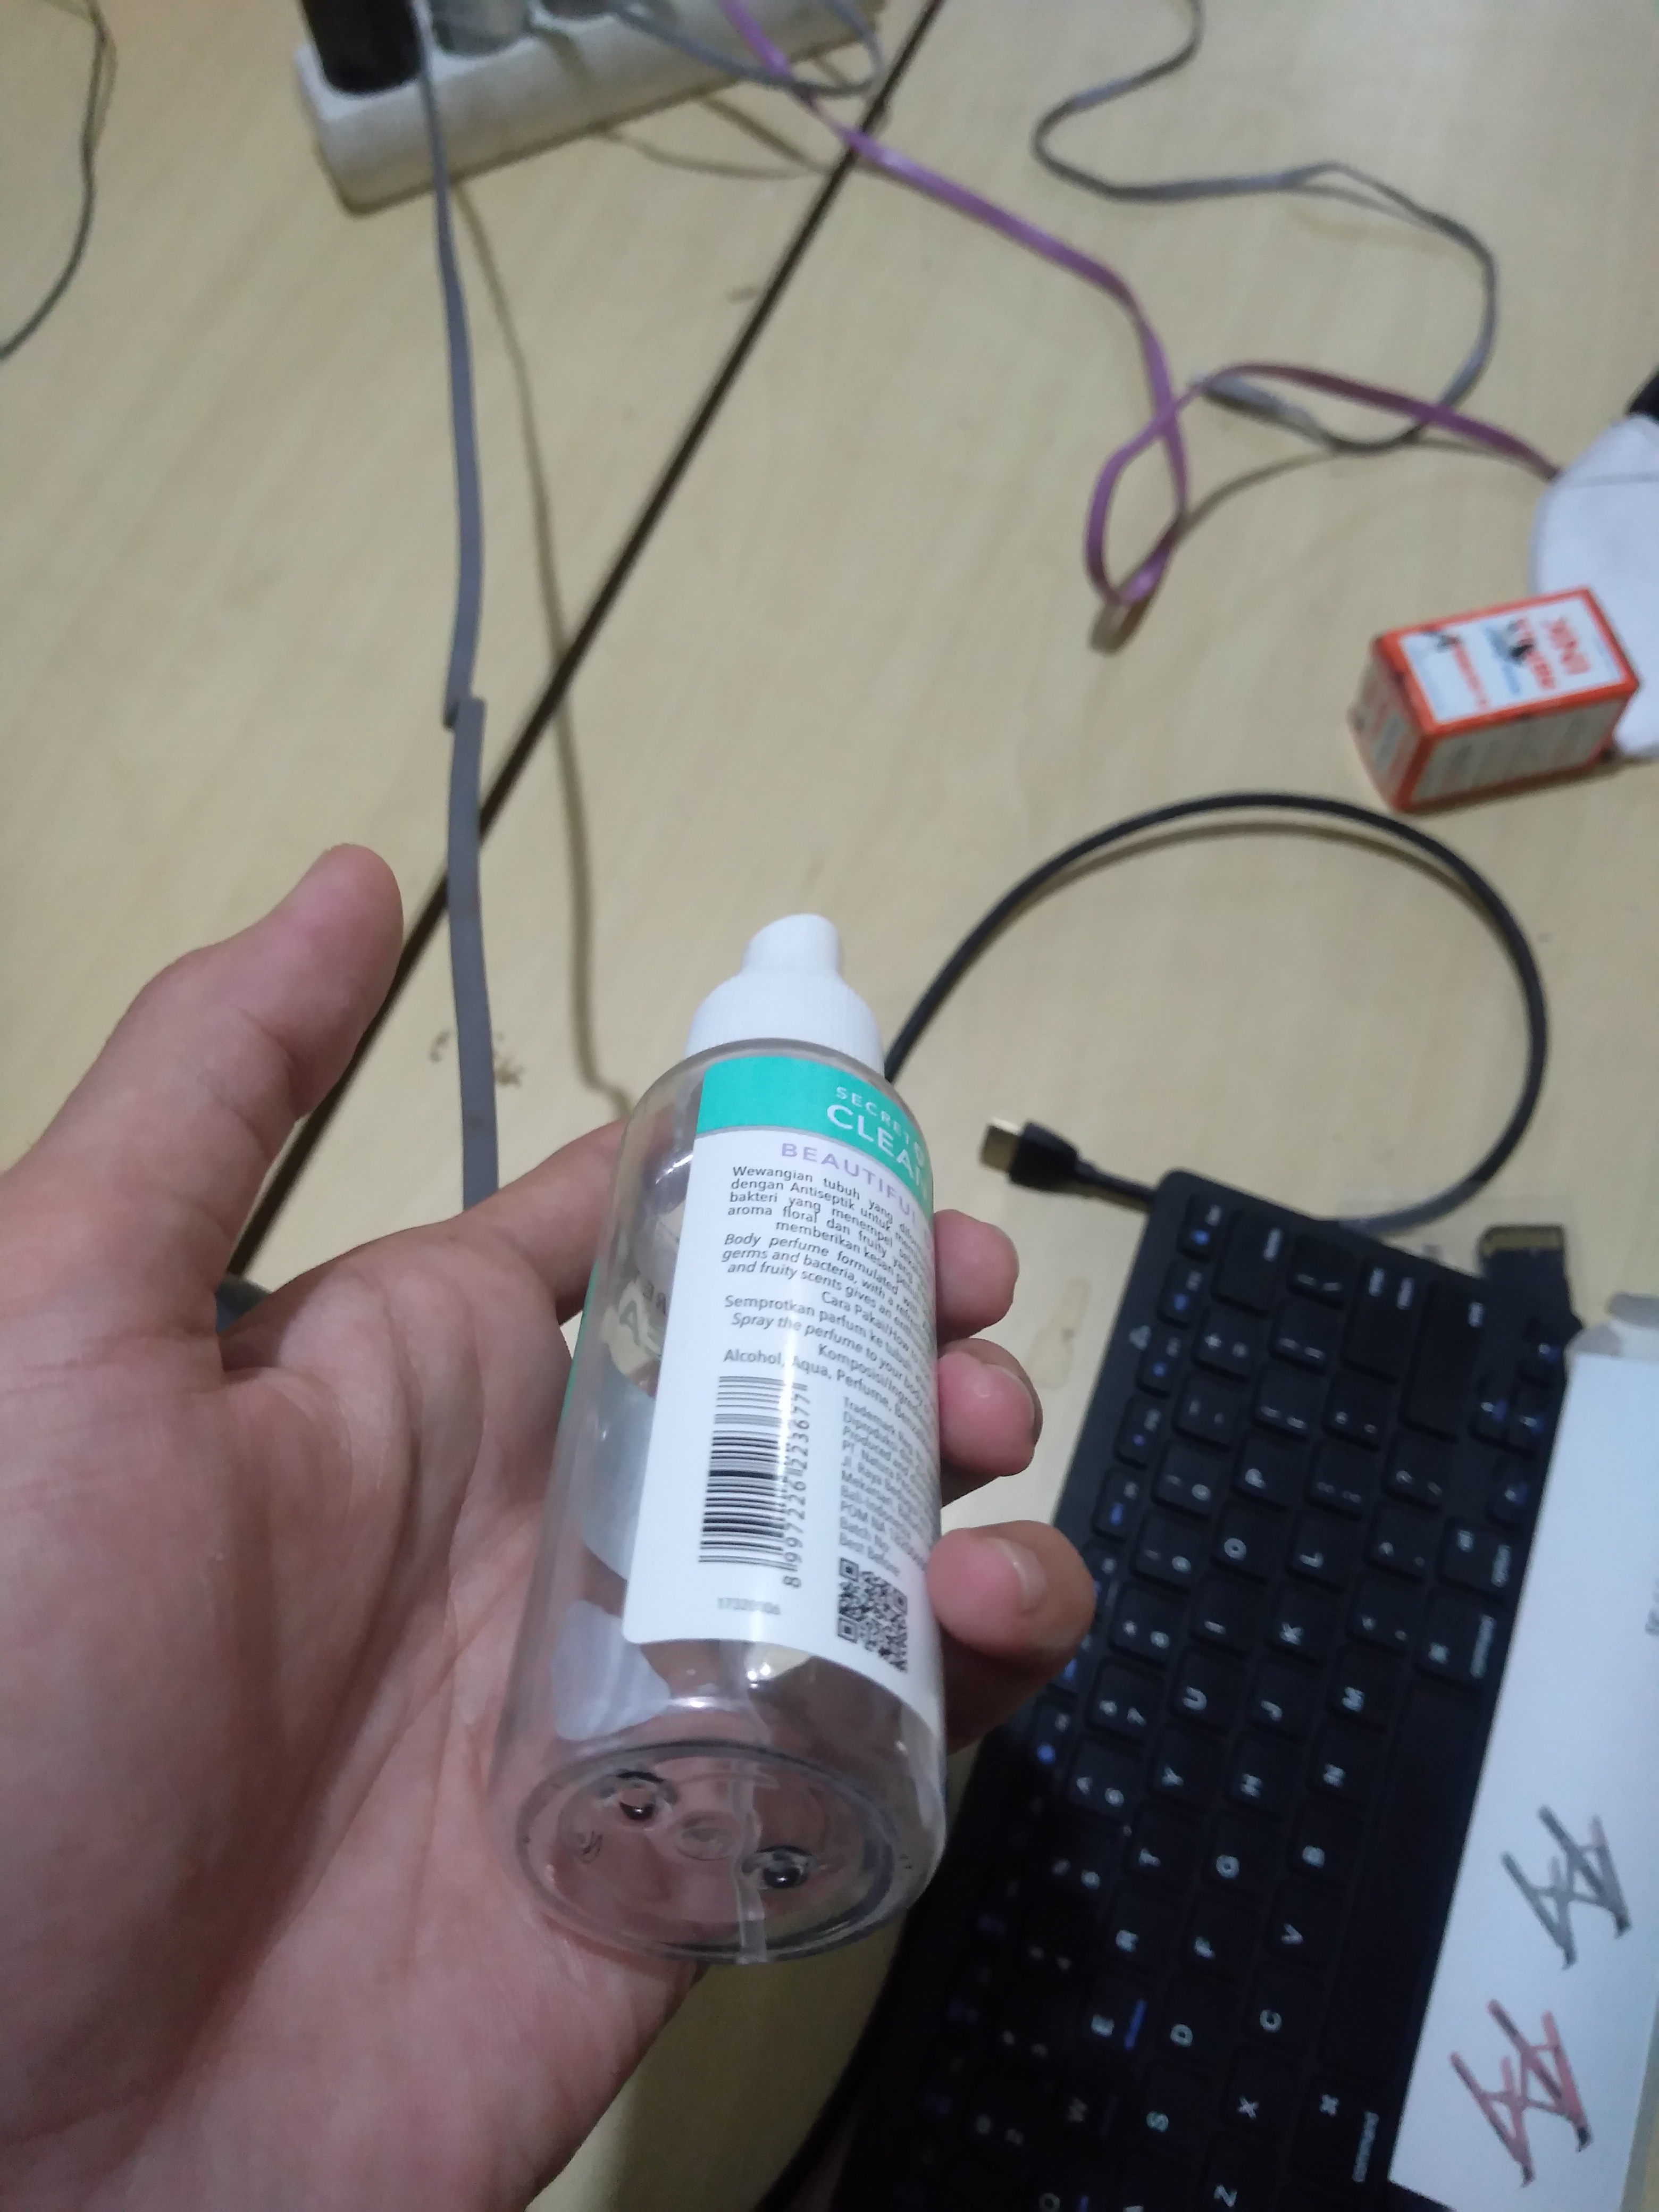hand sanitizer: (490, 853, 997, 1991)
